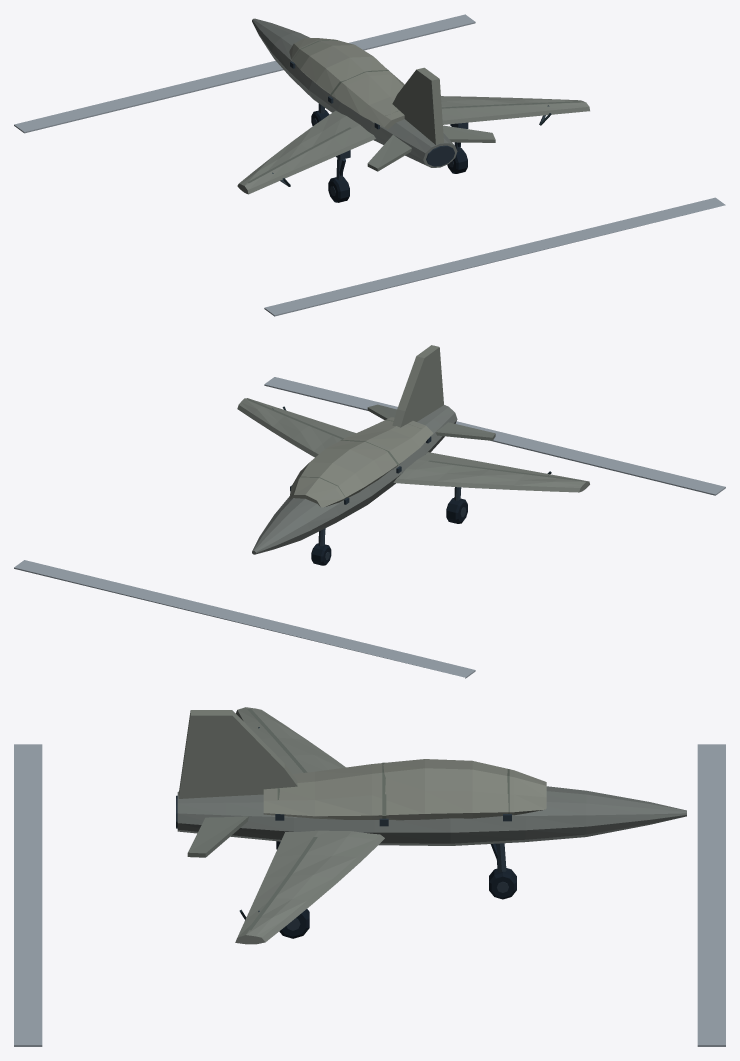
The model's file is covered-fighter.glb.
3 renders of one model, top to bottom at view 1: azimuth 30°, elevation 25°; view 2: azimuth 150°, elevation 25°; view 3: azimuth 270°, elevation 25°, orthographic. The views are drawn at different scales.
Parts seen in each view (by area): view 1: CF_17_Unchanged_Fixed_Hardstand_24tri, CF_02_Cockpit_Tensioned_Canvas, CF_01_Fuselage_Fitted_Lower_Cover, CF_03_Port_Wing_Draped_Pleats, CF_03_Starboard_Wing_Draped_Pleats, CF_06_Vertical_Fin_Fitted_Sock, CF_05_Port_Tailplane_Wrapped, CF_05_Starboard_Tailplane_Wrapped; view 2: CF_17_Unchanged_Fixed_Hardstand_24tri, CF_02_Cockpit_Tensioned_Canvas, CF_01_Fuselage_Fitted_Lower_Cover, CF_03_Port_Wing_Draped_Pleats, CF_03_Starboard_Wing_Draped_Pleats, CF_06_Vertical_Fin_Fitted_Sock, CF_05_Port_Tailplane_Wrapped; view 3: CF_17_Unchanged_Fixed_Hardstand_24tri, CF_02_Cockpit_Tensioned_Canvas, CF_01_Fuselage_Fitted_Lower_Cover, CF_03_Starboard_Wing_Draped_Pleats, CF_06_Vertical_Fin_Fitted_Sock, CF_03_Port_Wing_Draped_Pleats, CF_05_Starboard_Tailplane_Wrapped, CF_12_Nose_Bevelled_Tyre.
Boxes of the visible parts, x1=… form: CF_17_Unchanged_Fixed_Hardstand_24tri: x1=14, y1=14, x2=725, y2=316; CF_02_Cockpit_Tensioned_Canvas: x1=289, y1=38, x2=404, y2=129; CF_01_Fuselage_Fitted_Lower_Cover: x1=252, y1=18, x2=457, y2=167; CF_03_Port_Wing_Draped_Pleats: x1=237, y1=110, x2=375, y2=194; CF_03_Starboard_Wing_Draped_Pleats: x1=441, y1=96, x2=589, y2=124; CF_06_Vertical_Fin_Fitted_Sock: x1=392, y1=67, x2=443, y2=144; CF_05_Port_Tailplane_Wrapped: x1=367, y1=135, x2=411, y2=171; CF_05_Starboard_Tailplane_Wrapped: x1=443, y1=125, x2=495, y2=142; CF_17_Unchanged_Fixed_Hardstand_24tri: x1=14, y1=377, x2=725, y2=678; CF_02_Cockpit_Tensioned_Canvas: x1=289, y1=417, x2=433, y2=507; CF_01_Fuselage_Fitted_Lower_Cover: x1=252, y1=405, x2=457, y2=554; CF_03_Port_Wing_Draped_Pleats: x1=393, y1=452, x2=589, y2=492; CF_03_Starboard_Wing_Draped_Pleats: x1=237, y1=398, x2=355, y2=457; CF_06_Vertical_Fin_Fitted_Sock: x1=392, y1=345, x2=443, y2=427; CF_05_Port_Tailplane_Wrapped: x1=435, y1=422, x2=495, y2=440; CF_17_Unchanged_Fixed_Hardstand_24tri: x1=14, y1=744, x2=725, y2=1046; CF_02_Cockpit_Tensioned_Canvas: x1=263, y1=759, x2=546, y2=820; CF_01_Fuselage_Fitted_Lower_Cover: x1=177, y1=786, x2=686, y2=845; CF_03_Starboard_Wing_Draped_Pleats: x1=235, y1=830, x2=384, y2=944; CF_06_Vertical_Fin_Fitted_Sock: x1=178, y1=710, x2=297, y2=798; CF_03_Port_Wing_Draped_Pleats: x1=236, y1=707, x2=345, y2=773; CF_05_Starboard_Tailplane_Wrapped: x1=187, y1=816, x2=248, y2=857; CF_12_Nose_Bevelled_Tyre: x1=489, y1=868, x2=516, y2=899.
Bounding box in the file's own units: 7.5 × 2.14 × 7.5.
